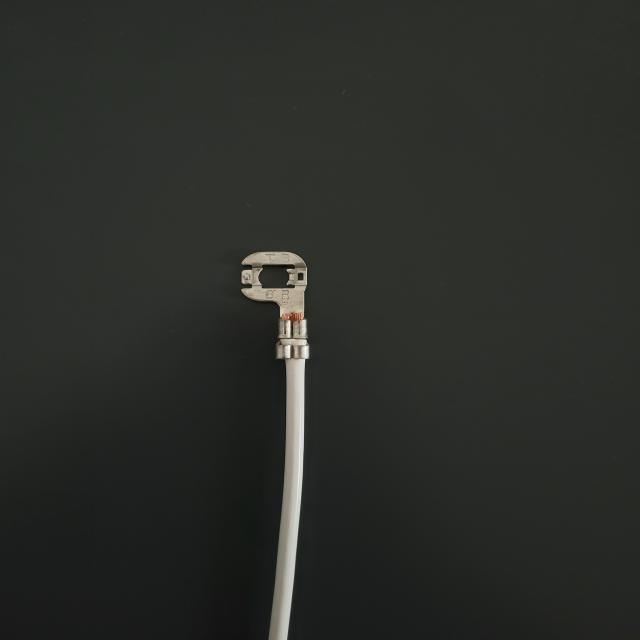good: (6, 3, 640, 640)
